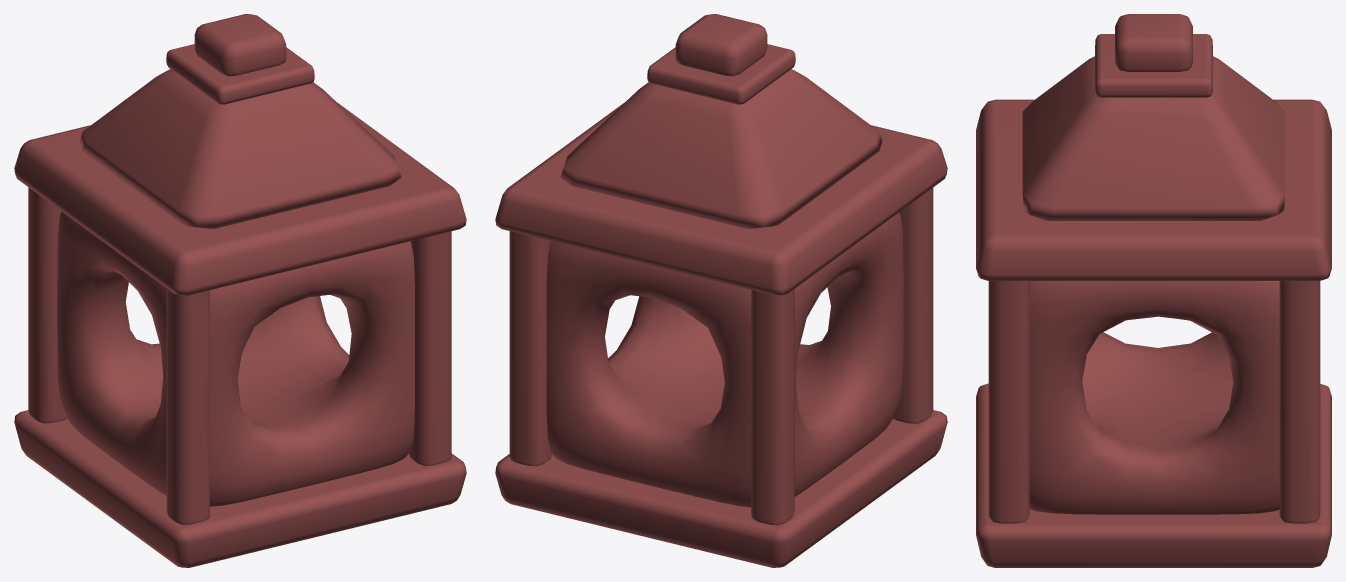
The model's file is LanternZen.fbx.
3 renders of one model, left to right at view 1: azimuth 30°, elevation 25°; view 2: azimuth 150°, elevation 25°; view 3: azimuth 270°, elevation 25°, orthographic. The views are drawn at different scales.
Parts seen in each view (by area): view 1: LanternZen2; view 2: LanternZen2; view 3: LanternZen2.
Boxes of the visible parts, x1=… form: LanternZen2: x1=14, y1=14, x2=466, y2=567; LanternZen2: x1=495, y1=14, x2=947, y2=567; LanternZen2: x1=976, y1=14, x2=1331, y2=567.
Bounding box in the file's own units: 4.54 × 6.68 × 4.54.
